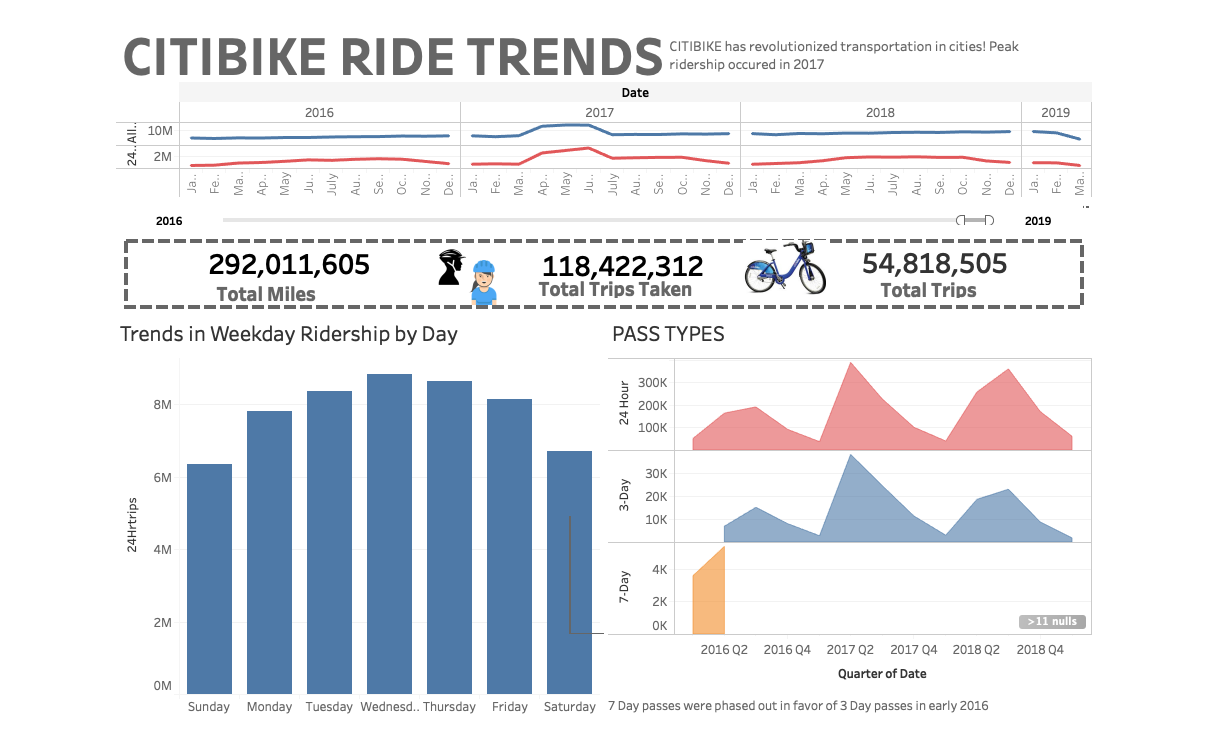

Layout of this report page (visuals, bound fields, positions):
{"tool":"tableau","page":{"name":"Dashboard","canvas":[1100,1000],"ordinal":0},"visuals":[{"type":"text","box":[18,5,883,65]},{"type":"text","box":[585,7,315,49]},{"type":"worksheet","title":"Member and Trips","mark":"Automatic","rows":["ALLTIMEMEMBERS","24HRTRIPS"],"cols":["Date","Date"],"box":[8,8,1084,253]},{"type":"filter","title":"KPI - # of Members","param":"[federated.1h85fl30tm6u9p12i8y7s12ybbyp].[none:Year (US Data):qk]","box":[8,261,1084,36]},{"type":"worksheet","title":"KPI - # of Members","mark":"Automatic","box":[24,304,351,95]},{"type":"worksheet","title":"KPI - Total Miles","mark":"Automatic","box":[375,304,351,95]},{"type":"image","param":"/Users/masterambassador/CITIBIKE/citibike.jpg","box":[703,304,182,79]},{"type":"worksheet","title":"KPI - Total Trips","mark":"Automatic","box":[726,304,350,95]},{"type":"image","param":"/Users/masterambassador/CITIBIKE/cyclist.png","box":[332,315,78,52]},{"type":"image","param":"/Users/masterambassador/CITIBIKE/womanbike.png","box":[375,336,54,64]},{"type":"text","box":[96,353,198,29]},{"type":"text","box":[853,353,108,27]},{"type":"text","box":[475,360,202,27]},{"type":"worksheet","title":"Weekday","mark":"Bar","rows":["24HRTRIPS"],"cols":["Date"],"box":[8,405.3,542,586.7]},{"type":"worksheet","title":"PASS TYPES","mark":"Area","rows":["24HRPASSESBOUGHT","3DAYPASSESBOUGHT","7DAYPASSESBOUGHT"],"cols":["Date"],"box":[550,405.3,542,586.7]},{"type":"blank","box":[512,698,2,168]},{"type":"blank","box":[512,866,38,2]}]}

Visuals, with their boxes on the page's 1100x1000 design canvas (x1, y1, x2, y2). These are canvas units, not pixel positions in the 1205x735 screenshot, which may show the page scaled, cropped or inside an application window:
text: x1=18 y1=5 x2=901 y2=70
text: x1=585 y1=7 x2=900 y2=56
"Member and Trips" worksheet: x1=8 y1=8 x2=1092 y2=261
"KPI - # of Members" filter: x1=8 y1=261 x2=1092 y2=297
"KPI - # of Members" worksheet: x1=24 y1=304 x2=375 y2=399
"KPI - Total Miles" worksheet: x1=375 y1=304 x2=726 y2=399
image: x1=703 y1=304 x2=885 y2=383
"KPI - Total Trips" worksheet: x1=726 y1=304 x2=1076 y2=399
image: x1=332 y1=315 x2=410 y2=367
image: x1=375 y1=336 x2=429 y2=400
text: x1=96 y1=353 x2=294 y2=382
text: x1=853 y1=353 x2=961 y2=380
text: x1=475 y1=360 x2=677 y2=387
"Weekday" worksheet (Bar marks): x1=8 y1=405 x2=550 y2=992
"PASS TYPES" worksheet (Area marks): x1=550 y1=405 x2=1092 y2=992
blank: x1=512 y1=698 x2=514 y2=866
blank: x1=512 y1=866 x2=550 y2=868
